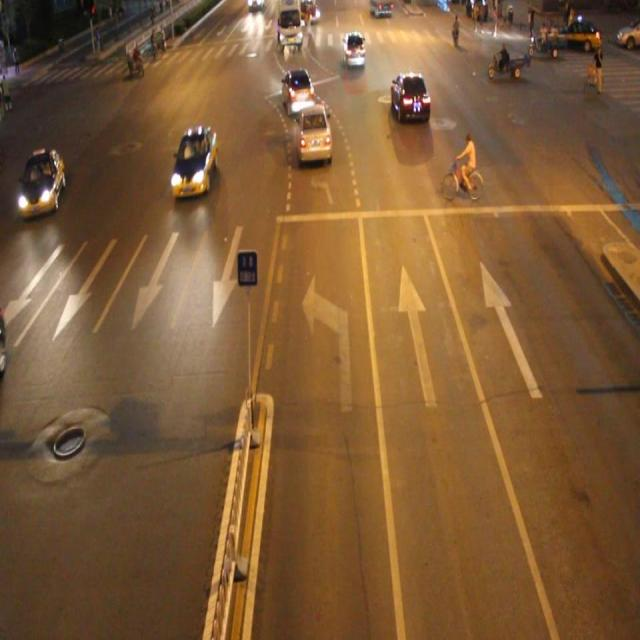car: (169, 124, 218, 198), (19, 144, 64, 222), (295, 104, 334, 164), (390, 71, 430, 126), (280, 67, 316, 119)
